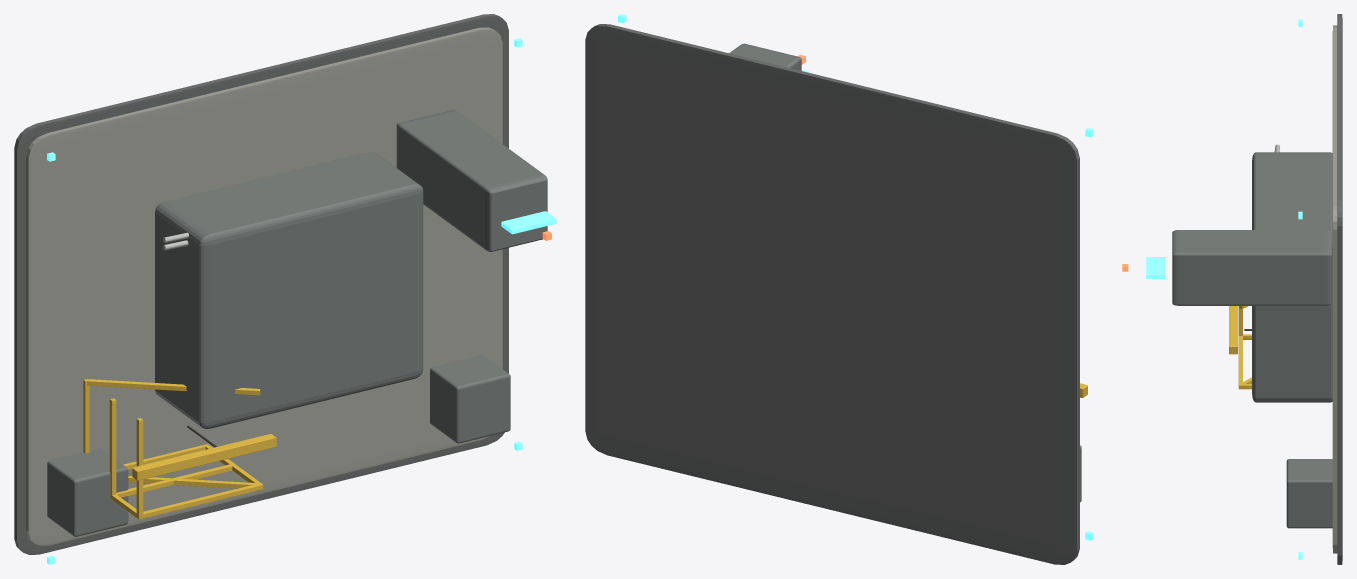
File: b-42-forward-outpost-lod2.glb
3 renders of one model, left to right at view 1: azimuth 30°, elevation 25°; view 2: azimuth 150°, elevation 25°; view 3: azimuth 270°, elevation 25°, orthographic. The views are drawn at different scales.
Visible parts, largest first — view 1: foundation_inner_pad, command_block, foundation, tower_main, outpost_wall_7_-5.2, outpost_wall_-7_-5.2, resource_dropoff_bridge, resource_dropoff_beam_x_2_s, resource_dropoff_brace_a_1.65, outpost_watch_sensor_array_0, resource_dropoff_beam_y_1_w, resource_dropoff_brace_a_-1.65 (+2 smaller); view 2: foundation, tower_main; view 3: command_block, tower_main, foundation, outpost_wall_7_-5.2, foundation_inner_pad, resource_dropoff_bridge, outpost_watch_sensor_array_0.
Boxes of the visible parts, x1,y1,x2,y2 form: foundation_inner_pad: (26,27,502,545); command_block: (155,152,423,428); foundation: (14,14,508,554); tower_main: (396,110,547,251); outpost_wall_7_-5.2: (430,355,510,443); outpost_wall_-7_-5.2: (47,448,128,536); resource_dropoff_bridge: (132,434,276,480); resource_dropoff_beam_x_2_s: (136,483,263,519); resource_dropoff_brace_a_1.65: (86,379,260,395); outpost_watch_sensor_array_0: (501,211,556,234); resource_dropoff_beam_y_1_w: (109,398,116,495); resource_dropoff_brace_a_-1.65: (128,475,256,488); foundation: (585,24,1079,564); tower_main: (729,43,801,70); command_block: (1252,152,1332,402); tower_main: (1172,230,1331,305); foundation: (1337,14,1342,564); outpost_wall_7_-5.2: (1286,459,1332,528); foundation_inner_pad: (1332,25,1337,553); resource_dropoff_bridge: (1229,306,1237,354); outpost_watch_sensor_array_0: (1146,257,1165,278).
Size of what is drawn, in the model's own units: 18 by 15 by 8.27.
